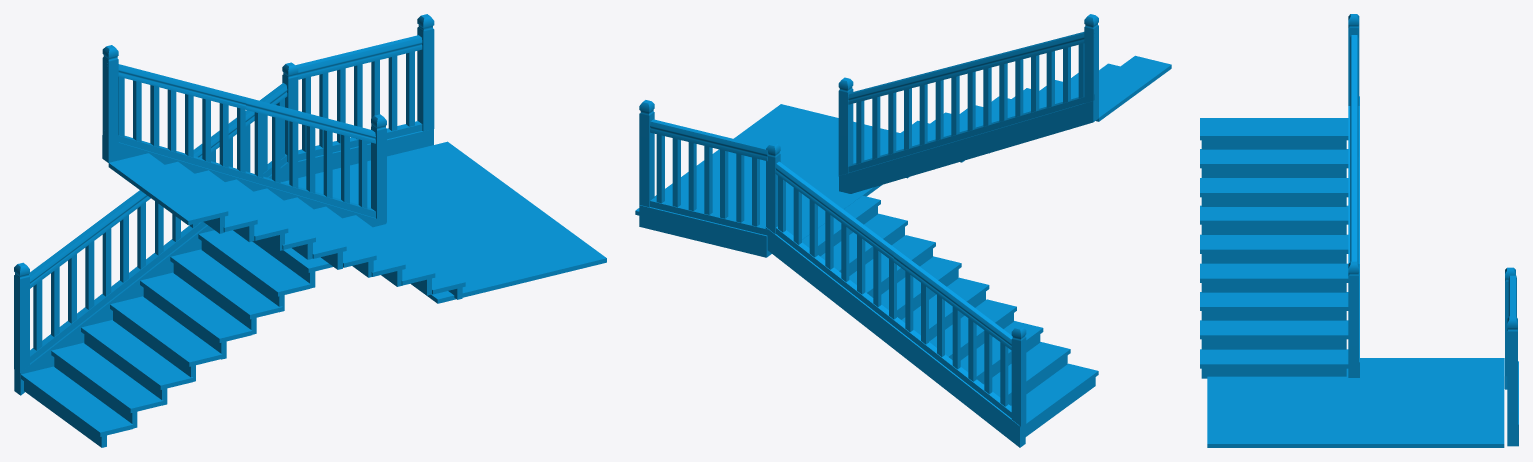
The model's file is Wood_Stairs_04.fbx.
The picture shows the model from 3 angles, left to right: view 1: azimuth 30°, elevation 25°; view 2: azimuth 150°, elevation 25°; view 3: azimuth 270°, elevation 25°; orthographic projection. The views are drawn at different scales.
Visible parts, largest first — view 1: Wood_Stairs_04; view 2: Wood_Stairs_04; view 3: Wood_Stairs_04.
Part boxes in pixels (x1,y1,x2,y2): Wood_Stairs_04: (14,14,606,447); Wood_Stairs_04: (635,14,1171,447); Wood_Stairs_04: (1200,14,1518,447).
Bounding box in the file's own units: 462 × 419 × 320.
